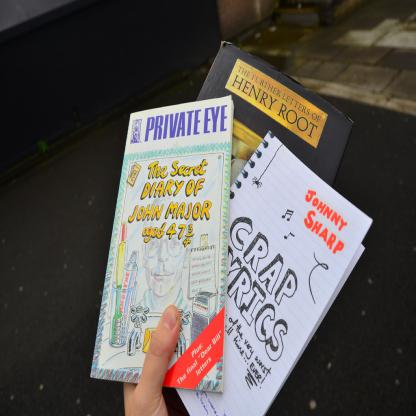book: (172, 128, 374, 416), (90, 95, 231, 394), (195, 39, 358, 192)
